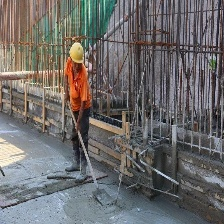helmet: (67, 42, 88, 65)
no-vest: (66, 60, 92, 112)
person: (63, 39, 93, 172)
